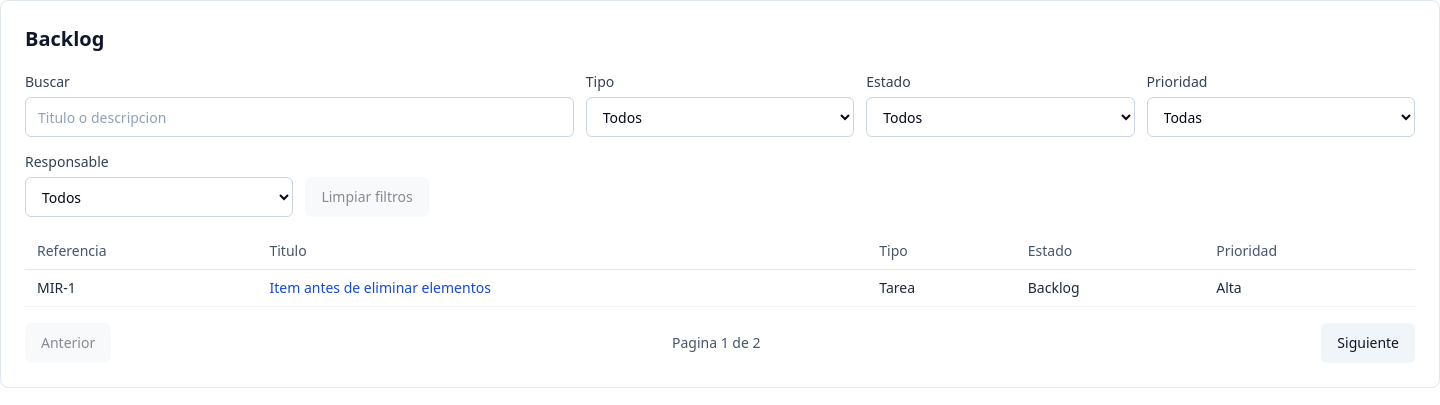
Scenario: WorkItemBacklog › vuelve a la ultima pagina valida si el total disminuye
Expected: the link "Item antes de eliminar elementos" is shown, [270, 278, 491, 297]
Click the button "Siguiente".
click(1368, 343)  # box [1321, 323, 1415, 363]
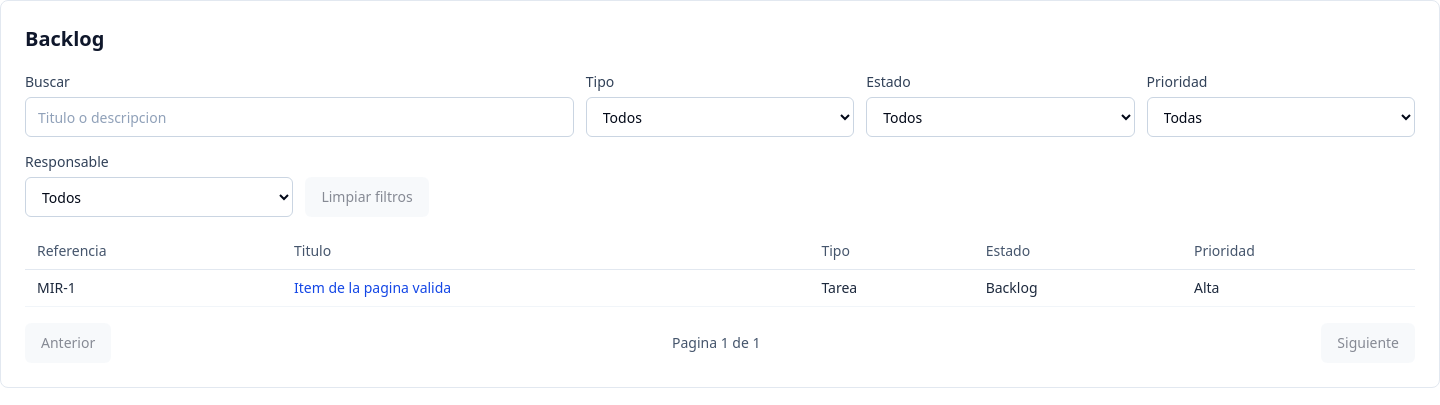
Expected: the link "Item de la pagina valida" is shown, [294, 278, 451, 297]
Expected: the text "Pagina 1 de 1" is shown, [672, 333, 760, 353]
